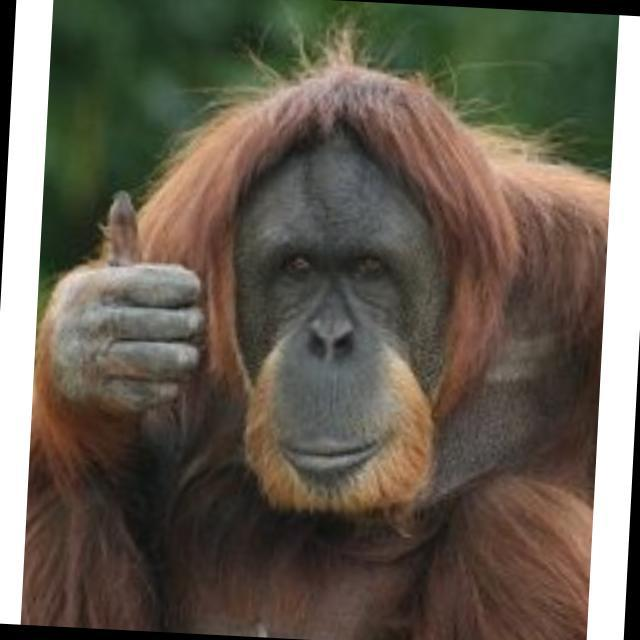Orangutan: (40, 56, 593, 640)
